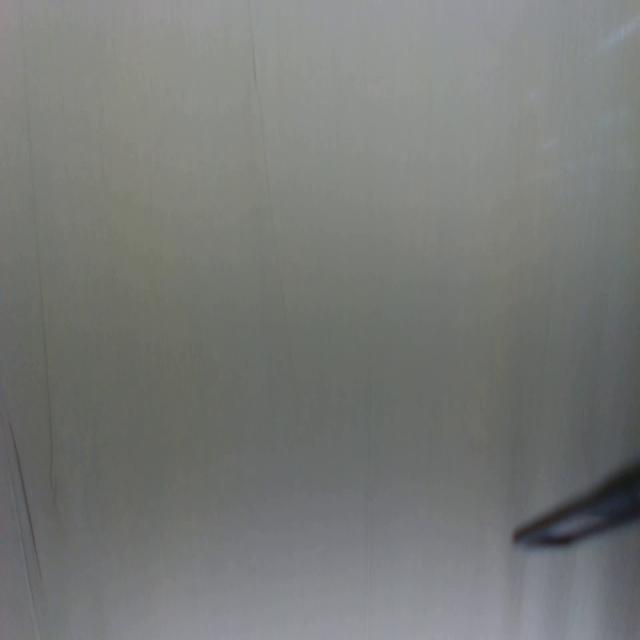crease: (20, 3, 56, 491), (246, 0, 292, 378), (2, 410, 43, 638)
